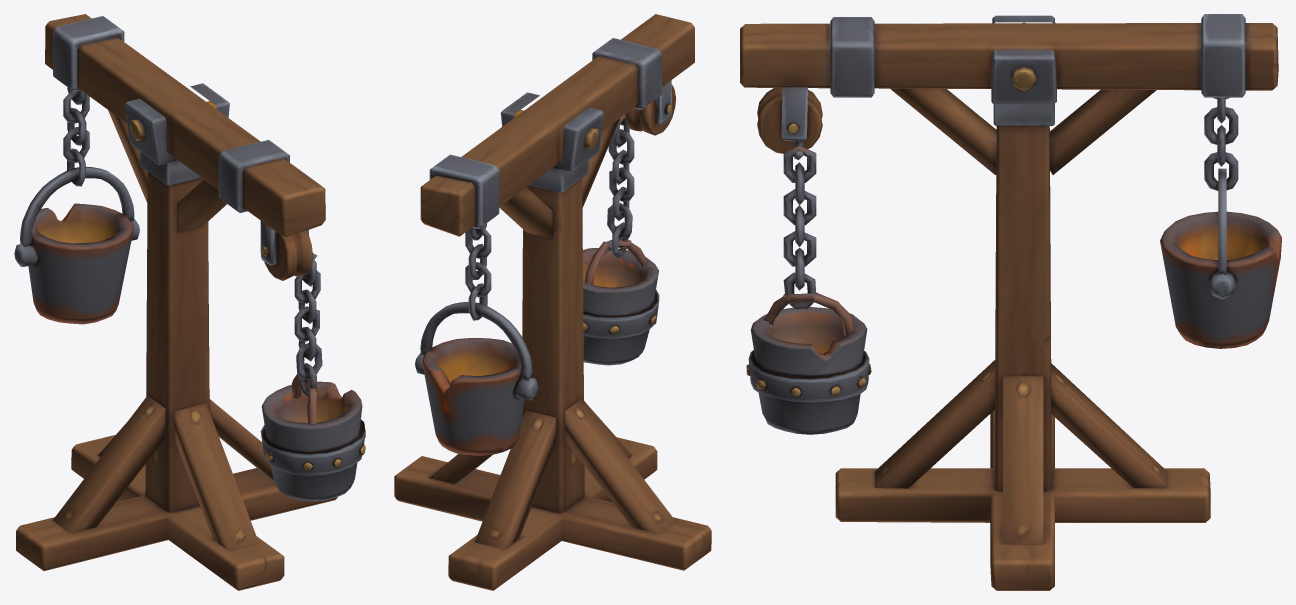
File: addon_crane_tripo.glb
3 views of the same model, side by side, from view 1: azimuth 30°, elevation 25°; view 2: azimuth 150°, elevation 25°; view 3: azimuth 270°, elevation 25° (orthographic). The views are drawn at different scales.
Visible parts, largest first — view 1: tripo_node_2ca65356-36cd-4c3a-a9f4-7ec0ac70843b; view 2: tripo_node_2ca65356-36cd-4c3a-a9f4-7ec0ac70843b; view 3: tripo_node_2ca65356-36cd-4c3a-a9f4-7ec0ac70843b.
Boxes of the visible parts, left/top/right/bottom form: tripo_node_2ca65356-36cd-4c3a-a9f4-7ec0ac70843b: left=14, top=14, right=365, bottom=590; tripo_node_2ca65356-36cd-4c3a-a9f4-7ec0ac70843b: left=394, top=14, right=711, bottom=590; tripo_node_2ca65356-36cd-4c3a-a9f4-7ec0ac70843b: left=740, top=14, right=1281, bottom=590.
Bounding box in the file's own units: 0.7129 × 0.9863 × 0.998.
Materials: 1 (1 with a texture image).
